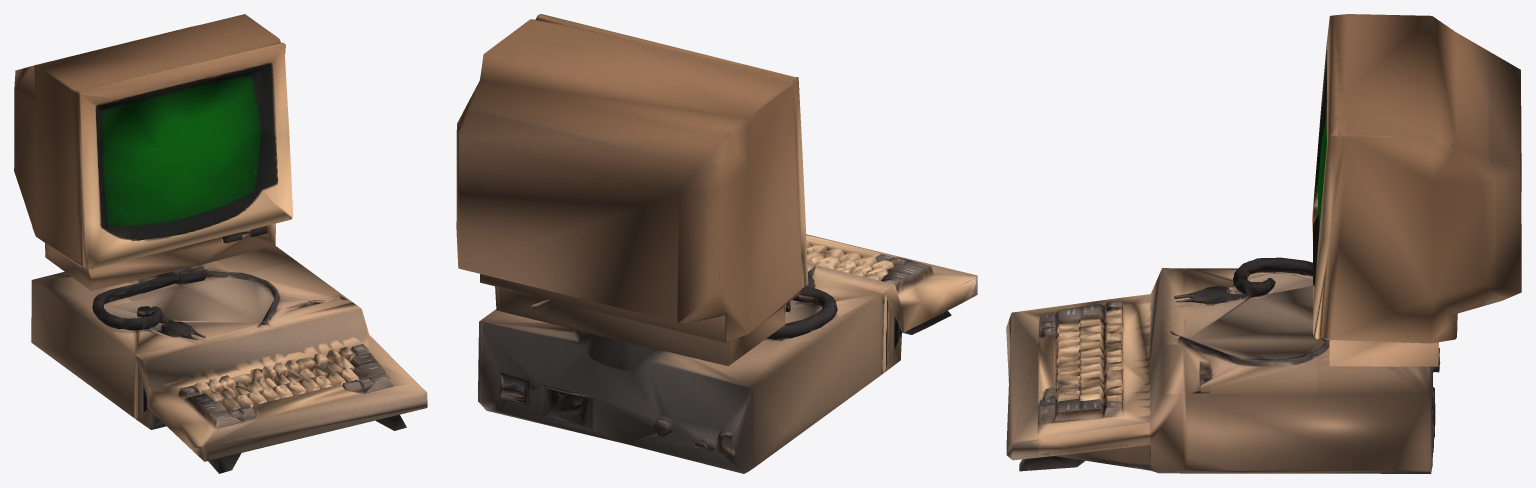
The model's file is Terminal.fbx.
The picture shows the model from 3 angles, left to right: view 1: azimuth 30°, elevation 25°; view 2: azimuth 150°, elevation 25°; view 3: azimuth 270°, elevation 25°; orthographic projection. The views are drawn at different scales.
Parts seen in each view (by area): view 1: Mesh_0; view 2: Mesh_0; view 3: Mesh_0.
Part boxes in pixels (x1=…): Mesh_0: x1=14, y1=14, x2=427, y2=473; Mesh_0: x1=456, y1=14, x2=977, y2=473; Mesh_0: x1=1006, y1=14, x2=1521, y2=473.
Size of the model in its own units: 113 by 139 by 190.
Materials: 1 (1 with a texture image).
